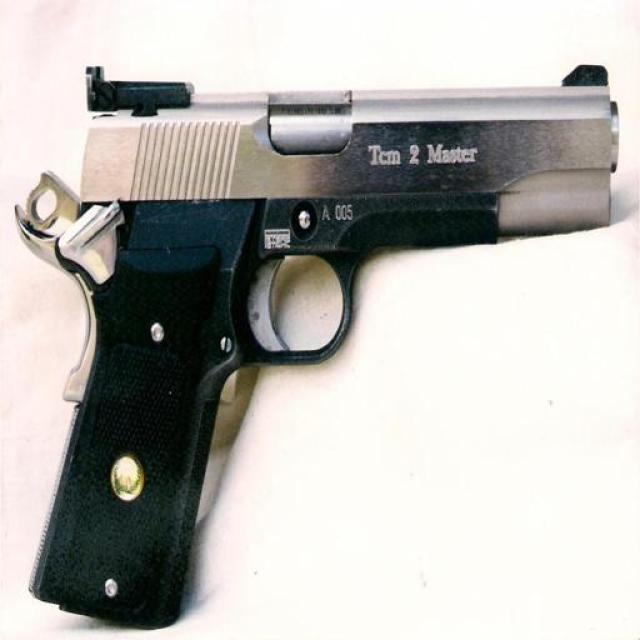pistol: (12, 57, 620, 626)
